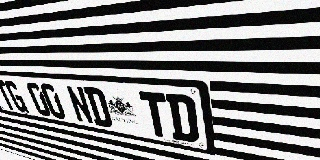0: (39, 83, 67, 120), (25, 82, 52, 117)
D: (165, 93, 200, 144), (83, 87, 114, 128)
G: (3, 80, 29, 113)
N: (65, 85, 95, 125)
T: (139, 91, 172, 139), (0, 79, 17, 111)
